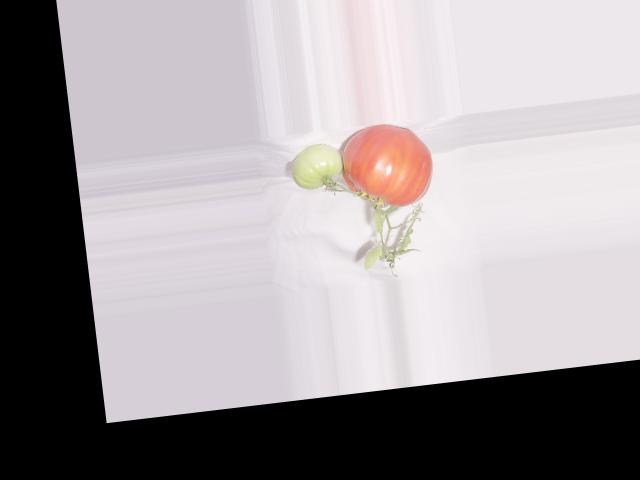tomato: (336, 119, 437, 213)
